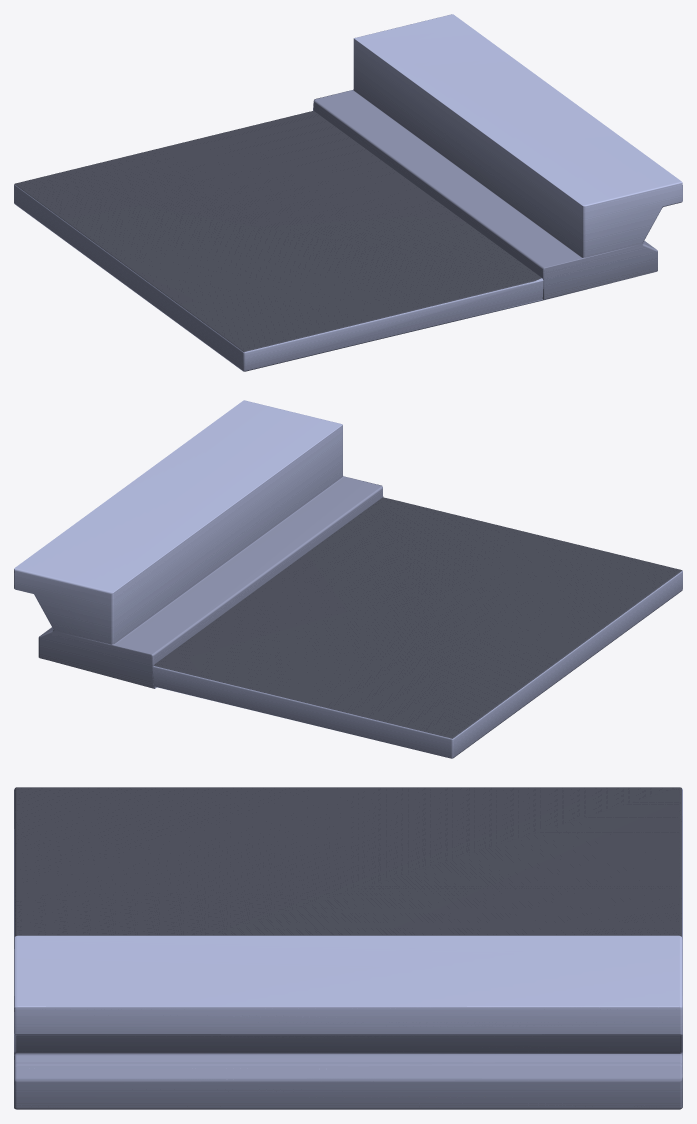
File: roof-flat-side.glb
3 views of the same model, one above another, from view 1: azimuth 30°, elevation 25°; view 2: azimuth 150°, elevation 25°; view 3: azimuth 270°, elevation 25° (orthographic). The views are drawn at different scales.
Visible parts, largest first — view 1: roof-flat-side; view 2: roof-flat-side; view 3: roof-flat-side.
Part boxes in pixels (bbox=[...]): roof-flat-side: bbox=[14, 14, 682, 371]; roof-flat-side: bbox=[14, 400, 682, 758]; roof-flat-side: bbox=[14, 787, 682, 1109].
Size of the model in its own units: 2.2 by 0.4104 by 2.
Materials: 1 (1 with a texture image).
